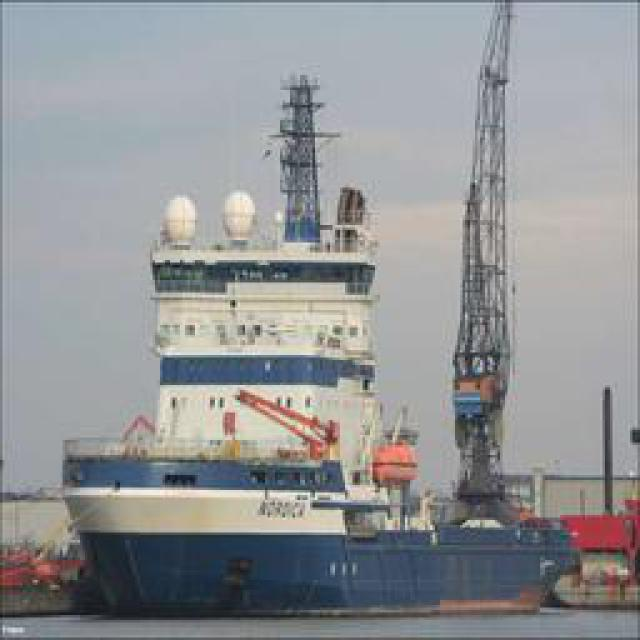Ship: (54, 82, 595, 619)
